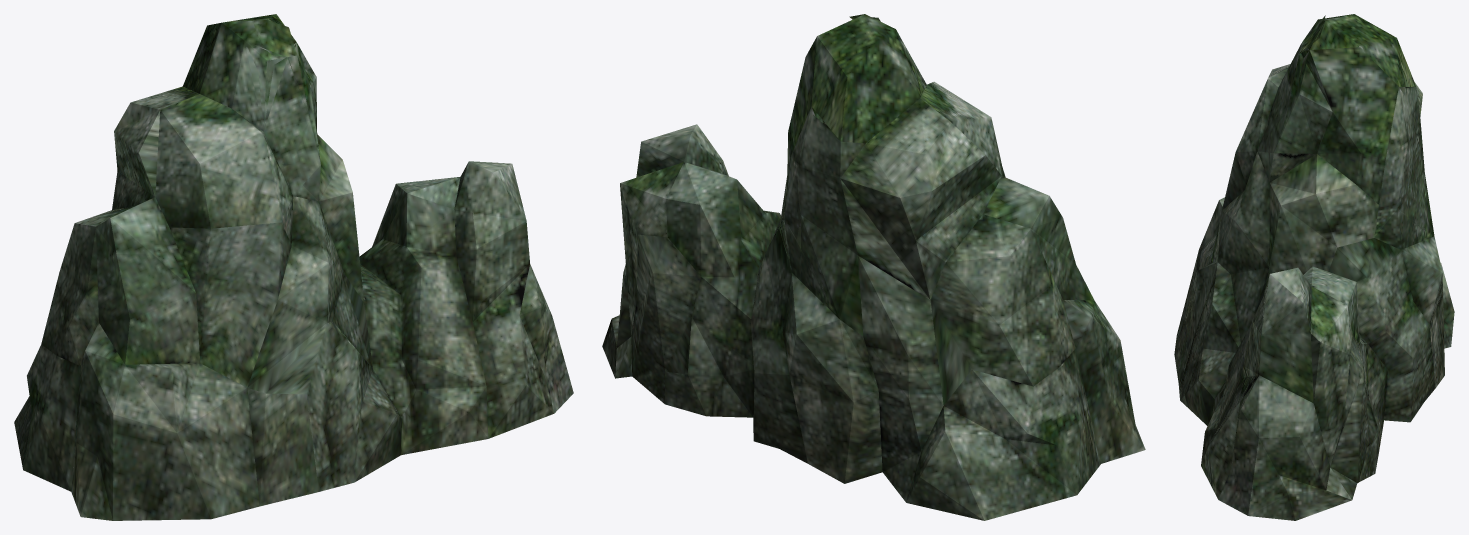
Rendered from lianqizong_shitou07_st.FBX.
3 views of the same model, side by side, from view 1: azimuth 30°, elevation 25°; view 2: azimuth 150°, elevation 25°; view 3: azimuth 270°, elevation 25° (orthographic). The views are drawn at different scales.
Visible parts, largest first — view 1: lianqizong_shitou07_st_A; view 2: lianqizong_shitou07_st_A; view 3: lianqizong_shitou07_st_A.
Boxes of the visible parts, x1,y1,x2,y2 form: lianqizong_shitou07_st_A: (14, 14, 573, 520); lianqizong_shitou07_st_A: (602, 14, 1145, 520); lianqizong_shitou07_st_A: (1174, 14, 1454, 520).
Size of the model in its own units: 798 by 612 by 413.
